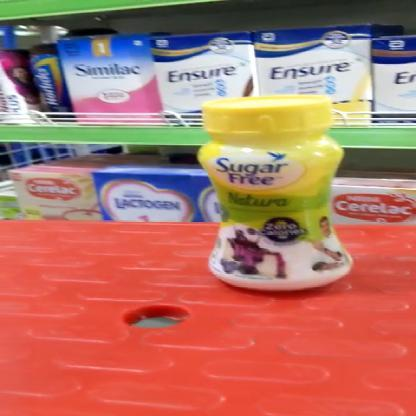SUGAR FREE NATURA_ POWDER_CONC_100G: (193, 92, 358, 294)
